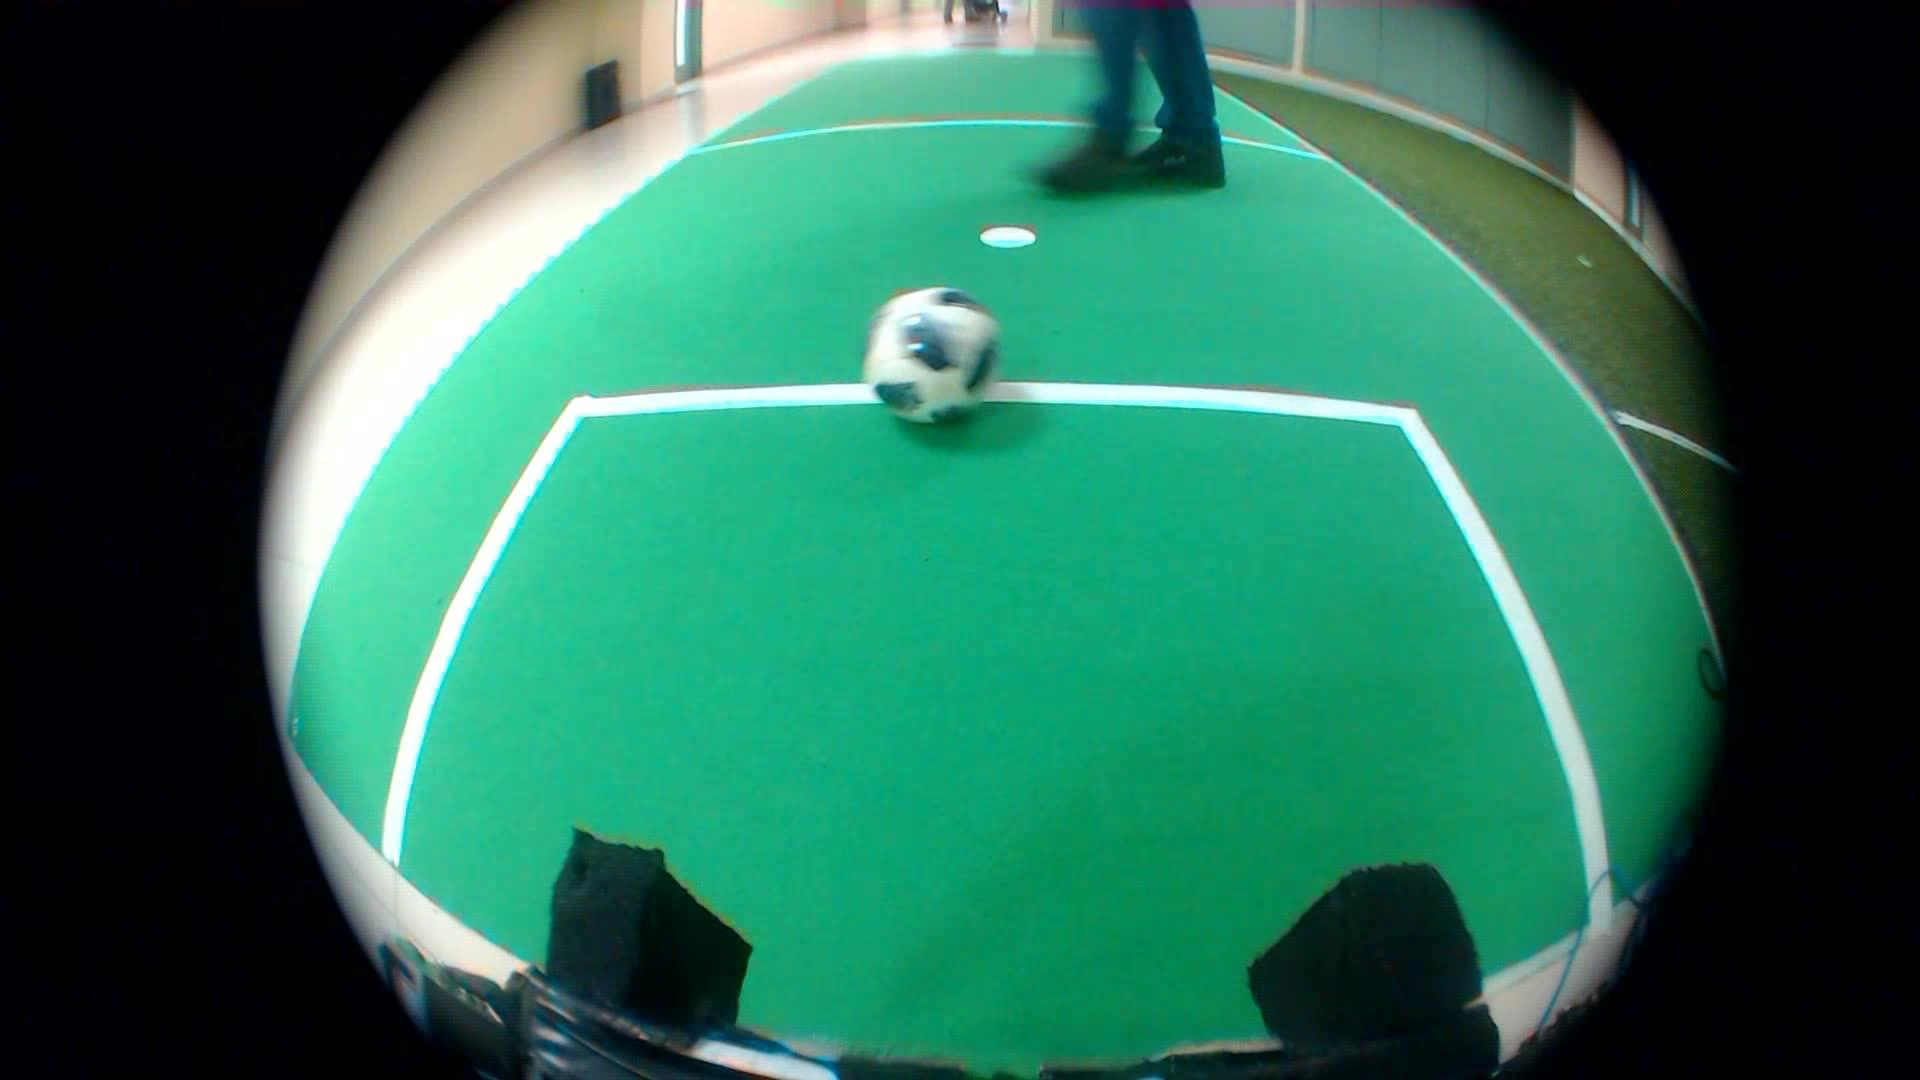ball: (831, 270, 1029, 446)
